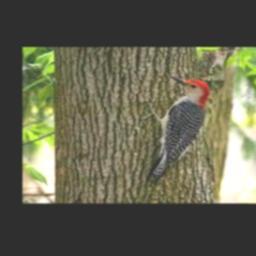Woodpecker: (142, 75, 210, 180)
